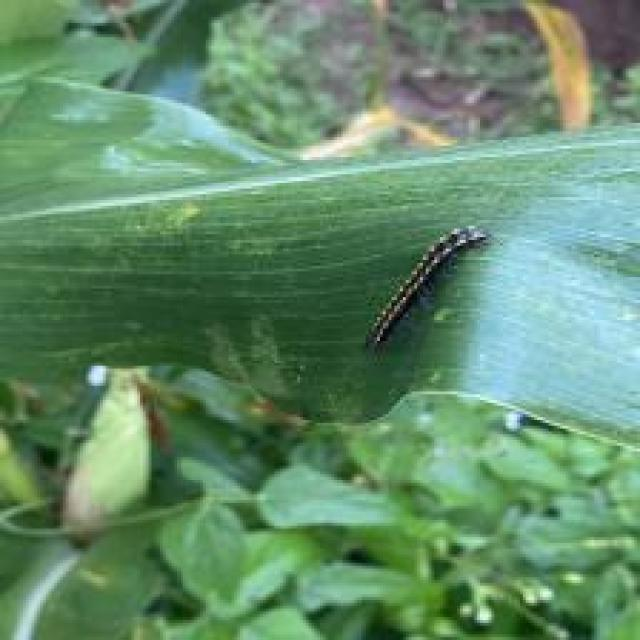Plaga: (330, 213, 495, 376)
